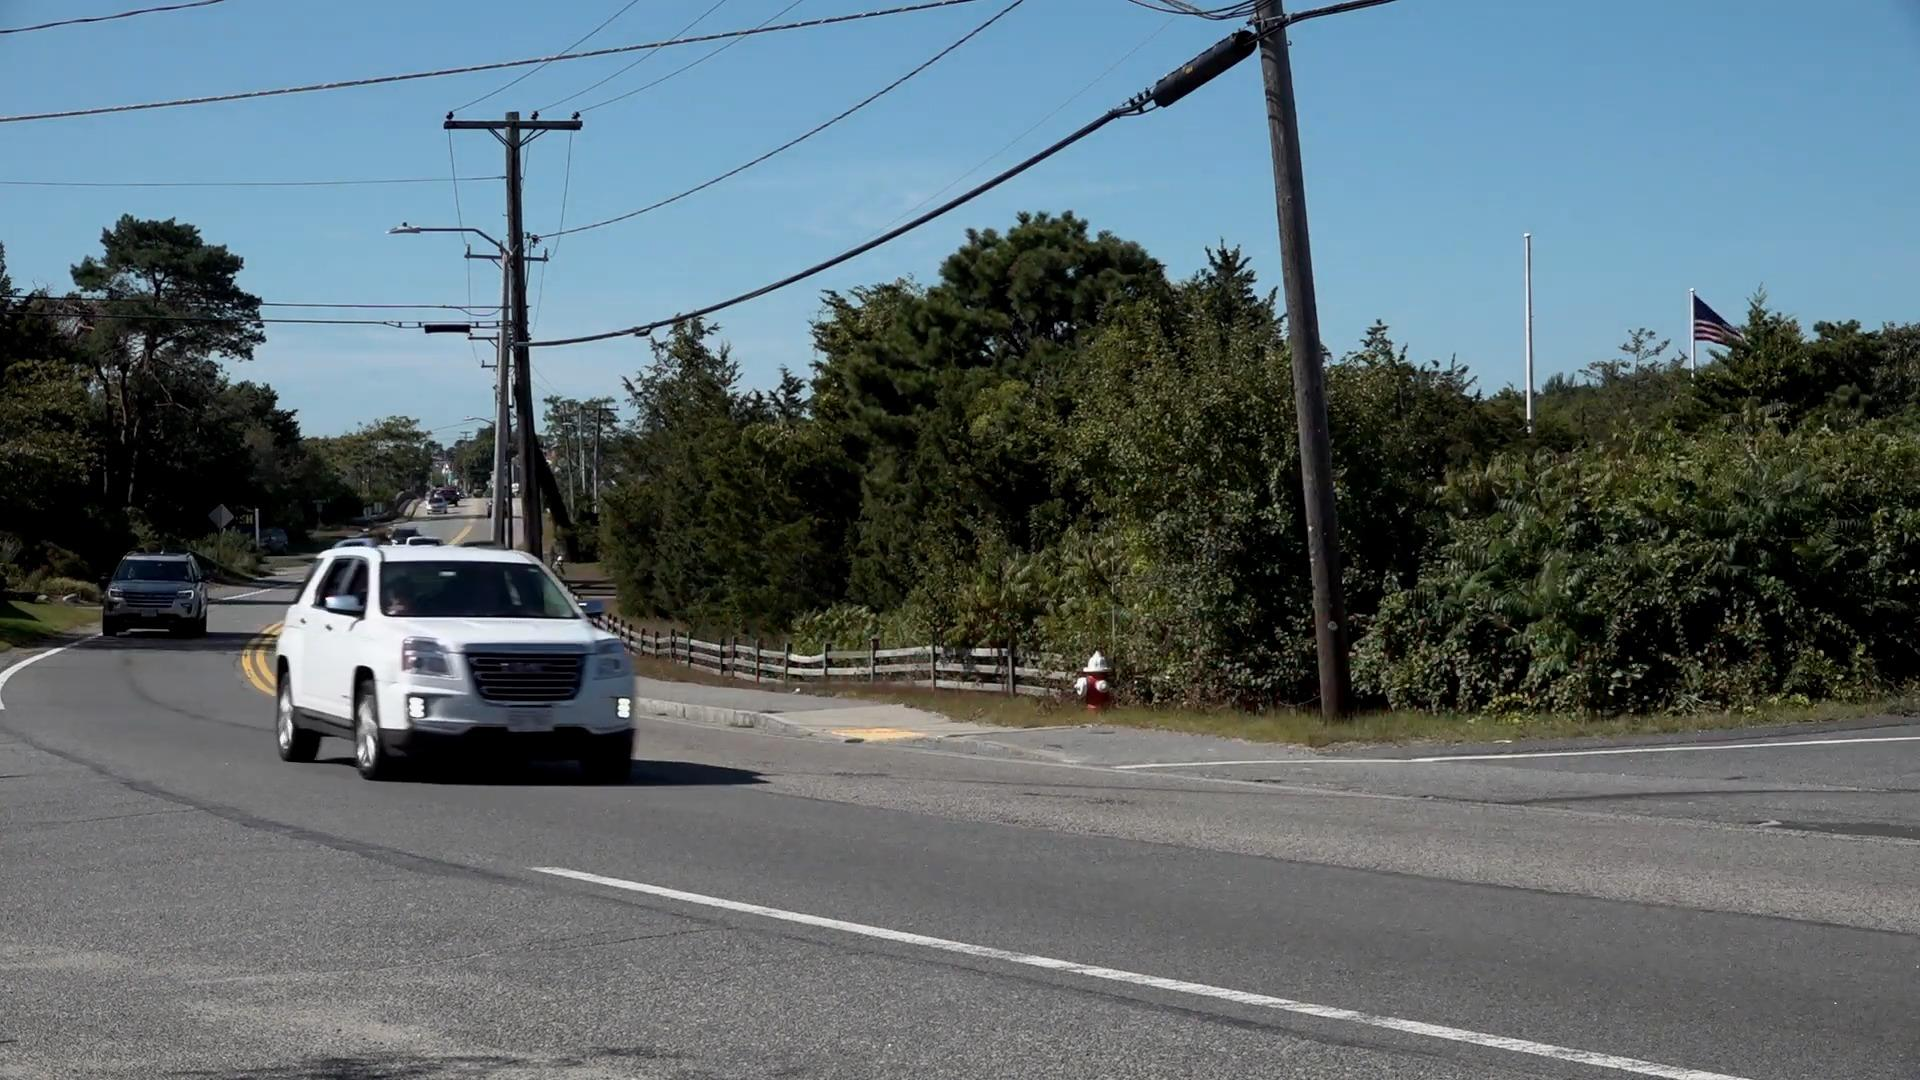suv: (282, 541, 636, 785), (108, 547, 207, 642)
